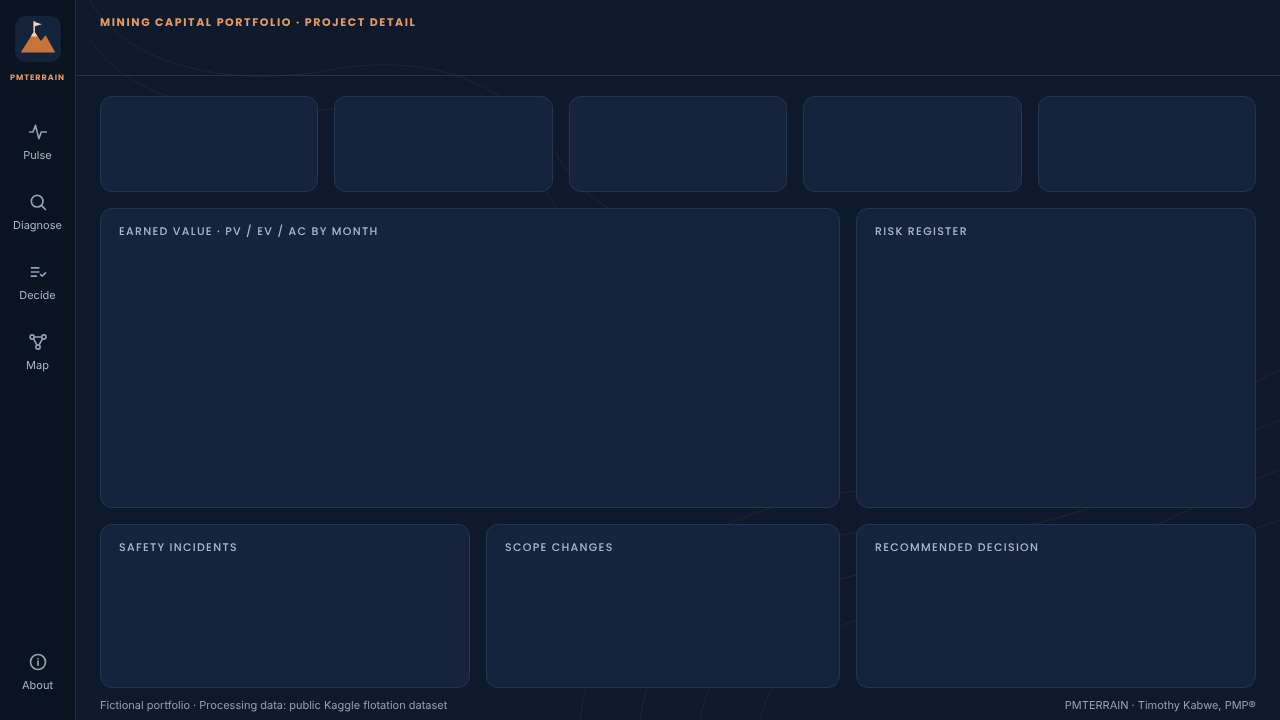

The page's visual inventory and layout, read from the dashboard file:
{"tool":"powerbi","page":{"name":"Project Detail","canvas":[1280,720],"ordinal":5},"visuals":[{"type":"actionButton","box":[1166,18,90,40],"z":0},{"type":"cardVisual","fields":{"Data":["Key_MeasuresPMO.Stop-Work Days"]},"box":[805,96,219,108],"z":1000},{"type":"cardVisual","fields":{"Data":["Key_MeasuresPMO.CPI"]},"box":[100,96,219,108],"z":2000},{"type":"cardVisual","fields":{"Data":["Key_MeasuresPMO.SPI"]},"box":[335,96,219,108],"z":3000},{"type":"cardVisual","fields":{"Data":["Key_MeasuresPMO.Forecast Overrun %"]},"box":[570,96,219,108],"z":4000},{"type":"cardVisual","fields":{"Data":["Key_MeasuresPMO.Overdue Mitigations"]},"box":[1040,96,216,108],"z":5000},{"type":"cardVisual","fields":{"Data":["Key_MeasuresPMO.Project Title"]},"box":[88,28,1000,44],"z":6000},{"type":"lineChart","fields":{"Category":["Calendar.YearMonth"],"Y":["Sum(Fact_ProjectMonthly.PV_USD)","Sum(Fact_ProjectMonthly.EV_USD)","Sum(Fact_ProjectMonthly.AC_USD)"]},"box":[112,234,716,266],"z":7000},{"type":"tableEx","fields":{"Values":["Fact_Risk.RiskID","Fact_Risk.RiskCategory","Sum(Fact_Risk.RiskScore)","Fact_Risk.Mitigation Status","Fact_Risk.MitigationDueDate"]},"box":[868,234,376,266],"z":8000},{"type":"barChart","fields":{"Category":["Fact_SafetyIncident.IncidentType"],"Y":["CountNonNull(Fact_SafetyIncident.IncidentID)"]},"box":[112,544,346,140],"z":9000},{"type":"clusteredColumnChart","fields":{"Category":["Calendar.YearMonth"],"Y":["Key_MeasuresPMO.Scope Change Cost"]},"box":[498,544,330,140],"z":10000},{"type":"cardVisual","fields":{"Data":["Key_MeasuresPMO.Decision Rule"]},"box":[868,550,376,64],"z":11000},{"type":"cardVisual","fields":{"Data":["Key_MeasuresPMO.Action"]},"box":[868,616,376,64],"z":12000},{"type":"actionButton","box":[0,110,76,64],"z":13000},{"type":"actionButton","box":[0,180,76,64],"z":14000},{"type":"actionButton","box":[0,250,76,64],"z":15000},{"type":"actionButton","box":[0,640,76,64],"z":16000},{"type":"actionButton","box":[0,320,76,64],"z":17000}]}

Visuals, with their boxes on the page's 1280x720 design canvas (x1, y1, x2, y2). These are canvas units, not pixel positions in the 1280x720 screenshot, which may show the page scaled, cropped or inside an application window:
actionButton: x1=1166 y1=18 x2=1256 y2=58
cardVisual - Key_MeasuresPMO.Stop-Work Days: x1=805 y1=96 x2=1024 y2=204
cardVisual - Key_MeasuresPMO.CPI: x1=100 y1=96 x2=319 y2=204
cardVisual - Key_MeasuresPMO.SPI: x1=335 y1=96 x2=554 y2=204
cardVisual - Key_MeasuresPMO.Forecast Overrun %: x1=570 y1=96 x2=789 y2=204
cardVisual - Key_MeasuresPMO.Overdue Mitigations: x1=1040 y1=96 x2=1256 y2=204
cardVisual - Key_MeasuresPMO.Project Title: x1=88 y1=28 x2=1088 y2=72
lineChart - Calendar.YearMonth x Sum(Fact_ProjectMonthly.PV_USD): x1=112 y1=234 x2=828 y2=500
tableEx - Fact_Risk.RiskID x Fact_Risk.RiskCategory: x1=868 y1=234 x2=1244 y2=500
barChart - Fact_SafetyIncident.IncidentType x CountNonNull(Fact_SafetyIncident.IncidentID): x1=112 y1=544 x2=458 y2=684
clusteredColumnChart - Calendar.YearMonth x Key_MeasuresPMO.Scope Change Cost: x1=498 y1=544 x2=828 y2=684
cardVisual - Key_MeasuresPMO.Decision Rule: x1=868 y1=550 x2=1244 y2=614
cardVisual - Key_MeasuresPMO.Action: x1=868 y1=616 x2=1244 y2=680
actionButton: x1=0 y1=110 x2=76 y2=174
actionButton: x1=0 y1=180 x2=76 y2=244
actionButton: x1=0 y1=250 x2=76 y2=314
actionButton: x1=0 y1=640 x2=76 y2=704
actionButton: x1=0 y1=320 x2=76 y2=384
